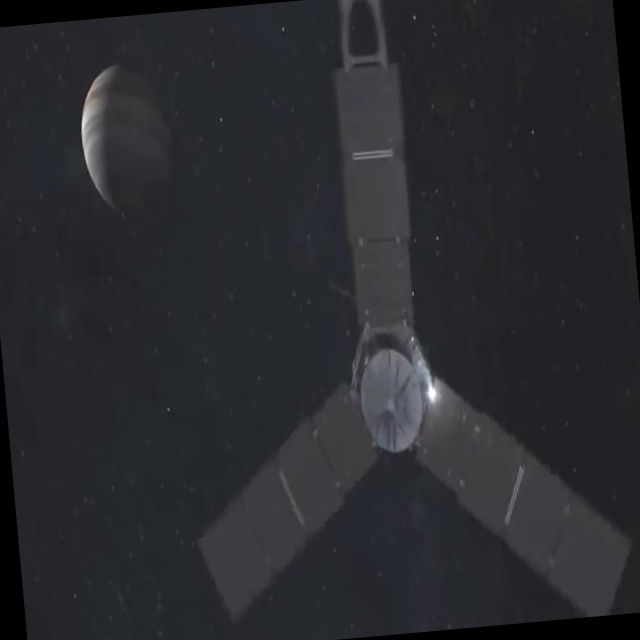satellite: (154, 0, 632, 640)
